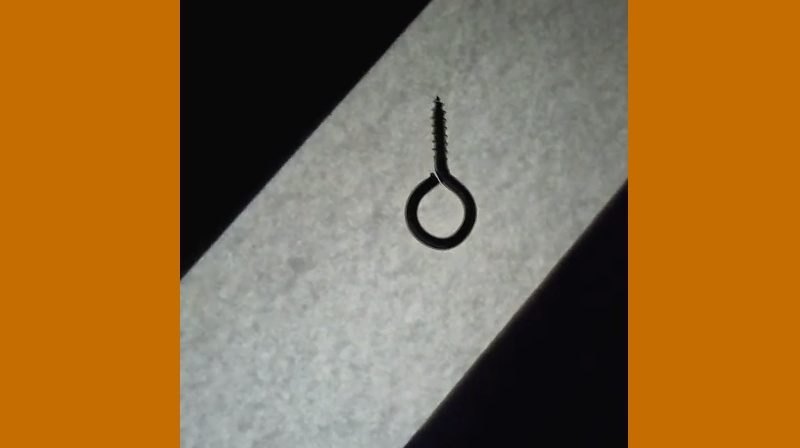O001: (402, 94, 477, 251)
